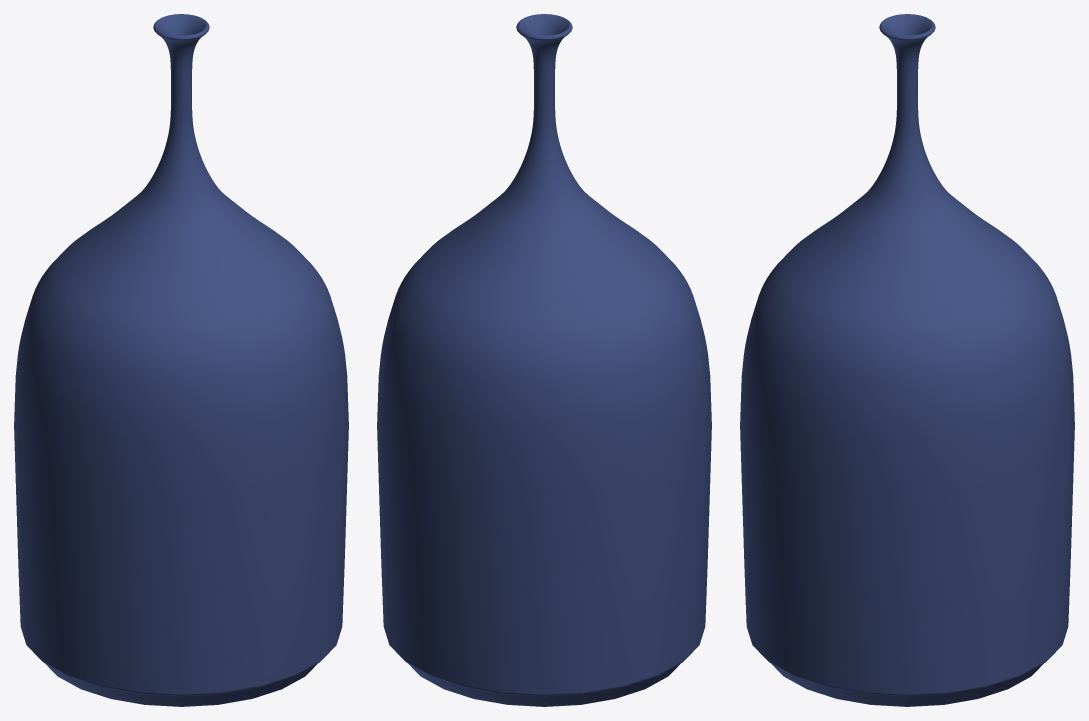
The model's file is Pot4.fbx.
The picture shows the model from 3 angles, left to right: view 1: azimuth 30°, elevation 25°; view 2: azimuth 150°, elevation 25°; view 3: azimuth 270°, elevation 25°; orthographic projection.
Parts seen in each view (by area): view 1: Pot4; view 2: Pot4; view 3: Pot4.
Part boxes in pixels (x1=…): Pot4: x1=14, y1=14, x2=348, y2=706; Pot4: x1=377, y1=14, x2=711, y2=706; Pot4: x1=740, y1=14, x2=1074, y2=706.
Size of the model in its own units: 0.1387 by 0.2846 by 0.1387.
